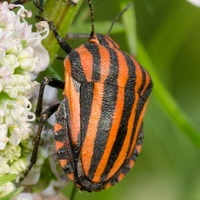insect: (54, 0, 151, 191)
